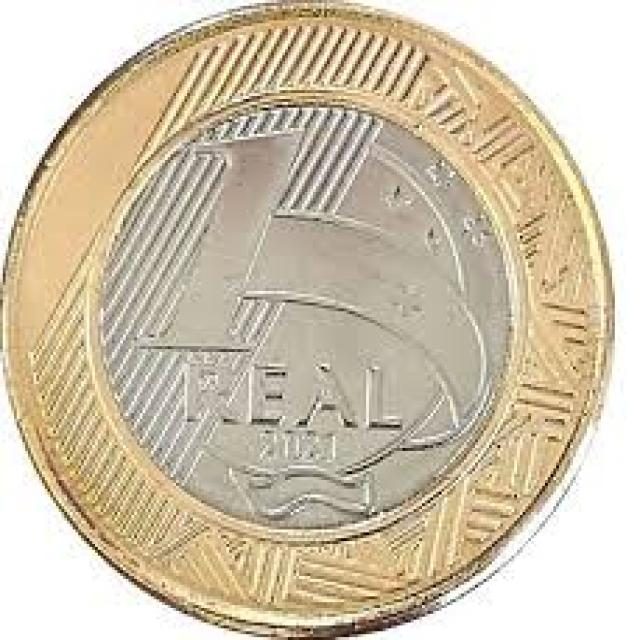1 real: (11, 6, 605, 632)
